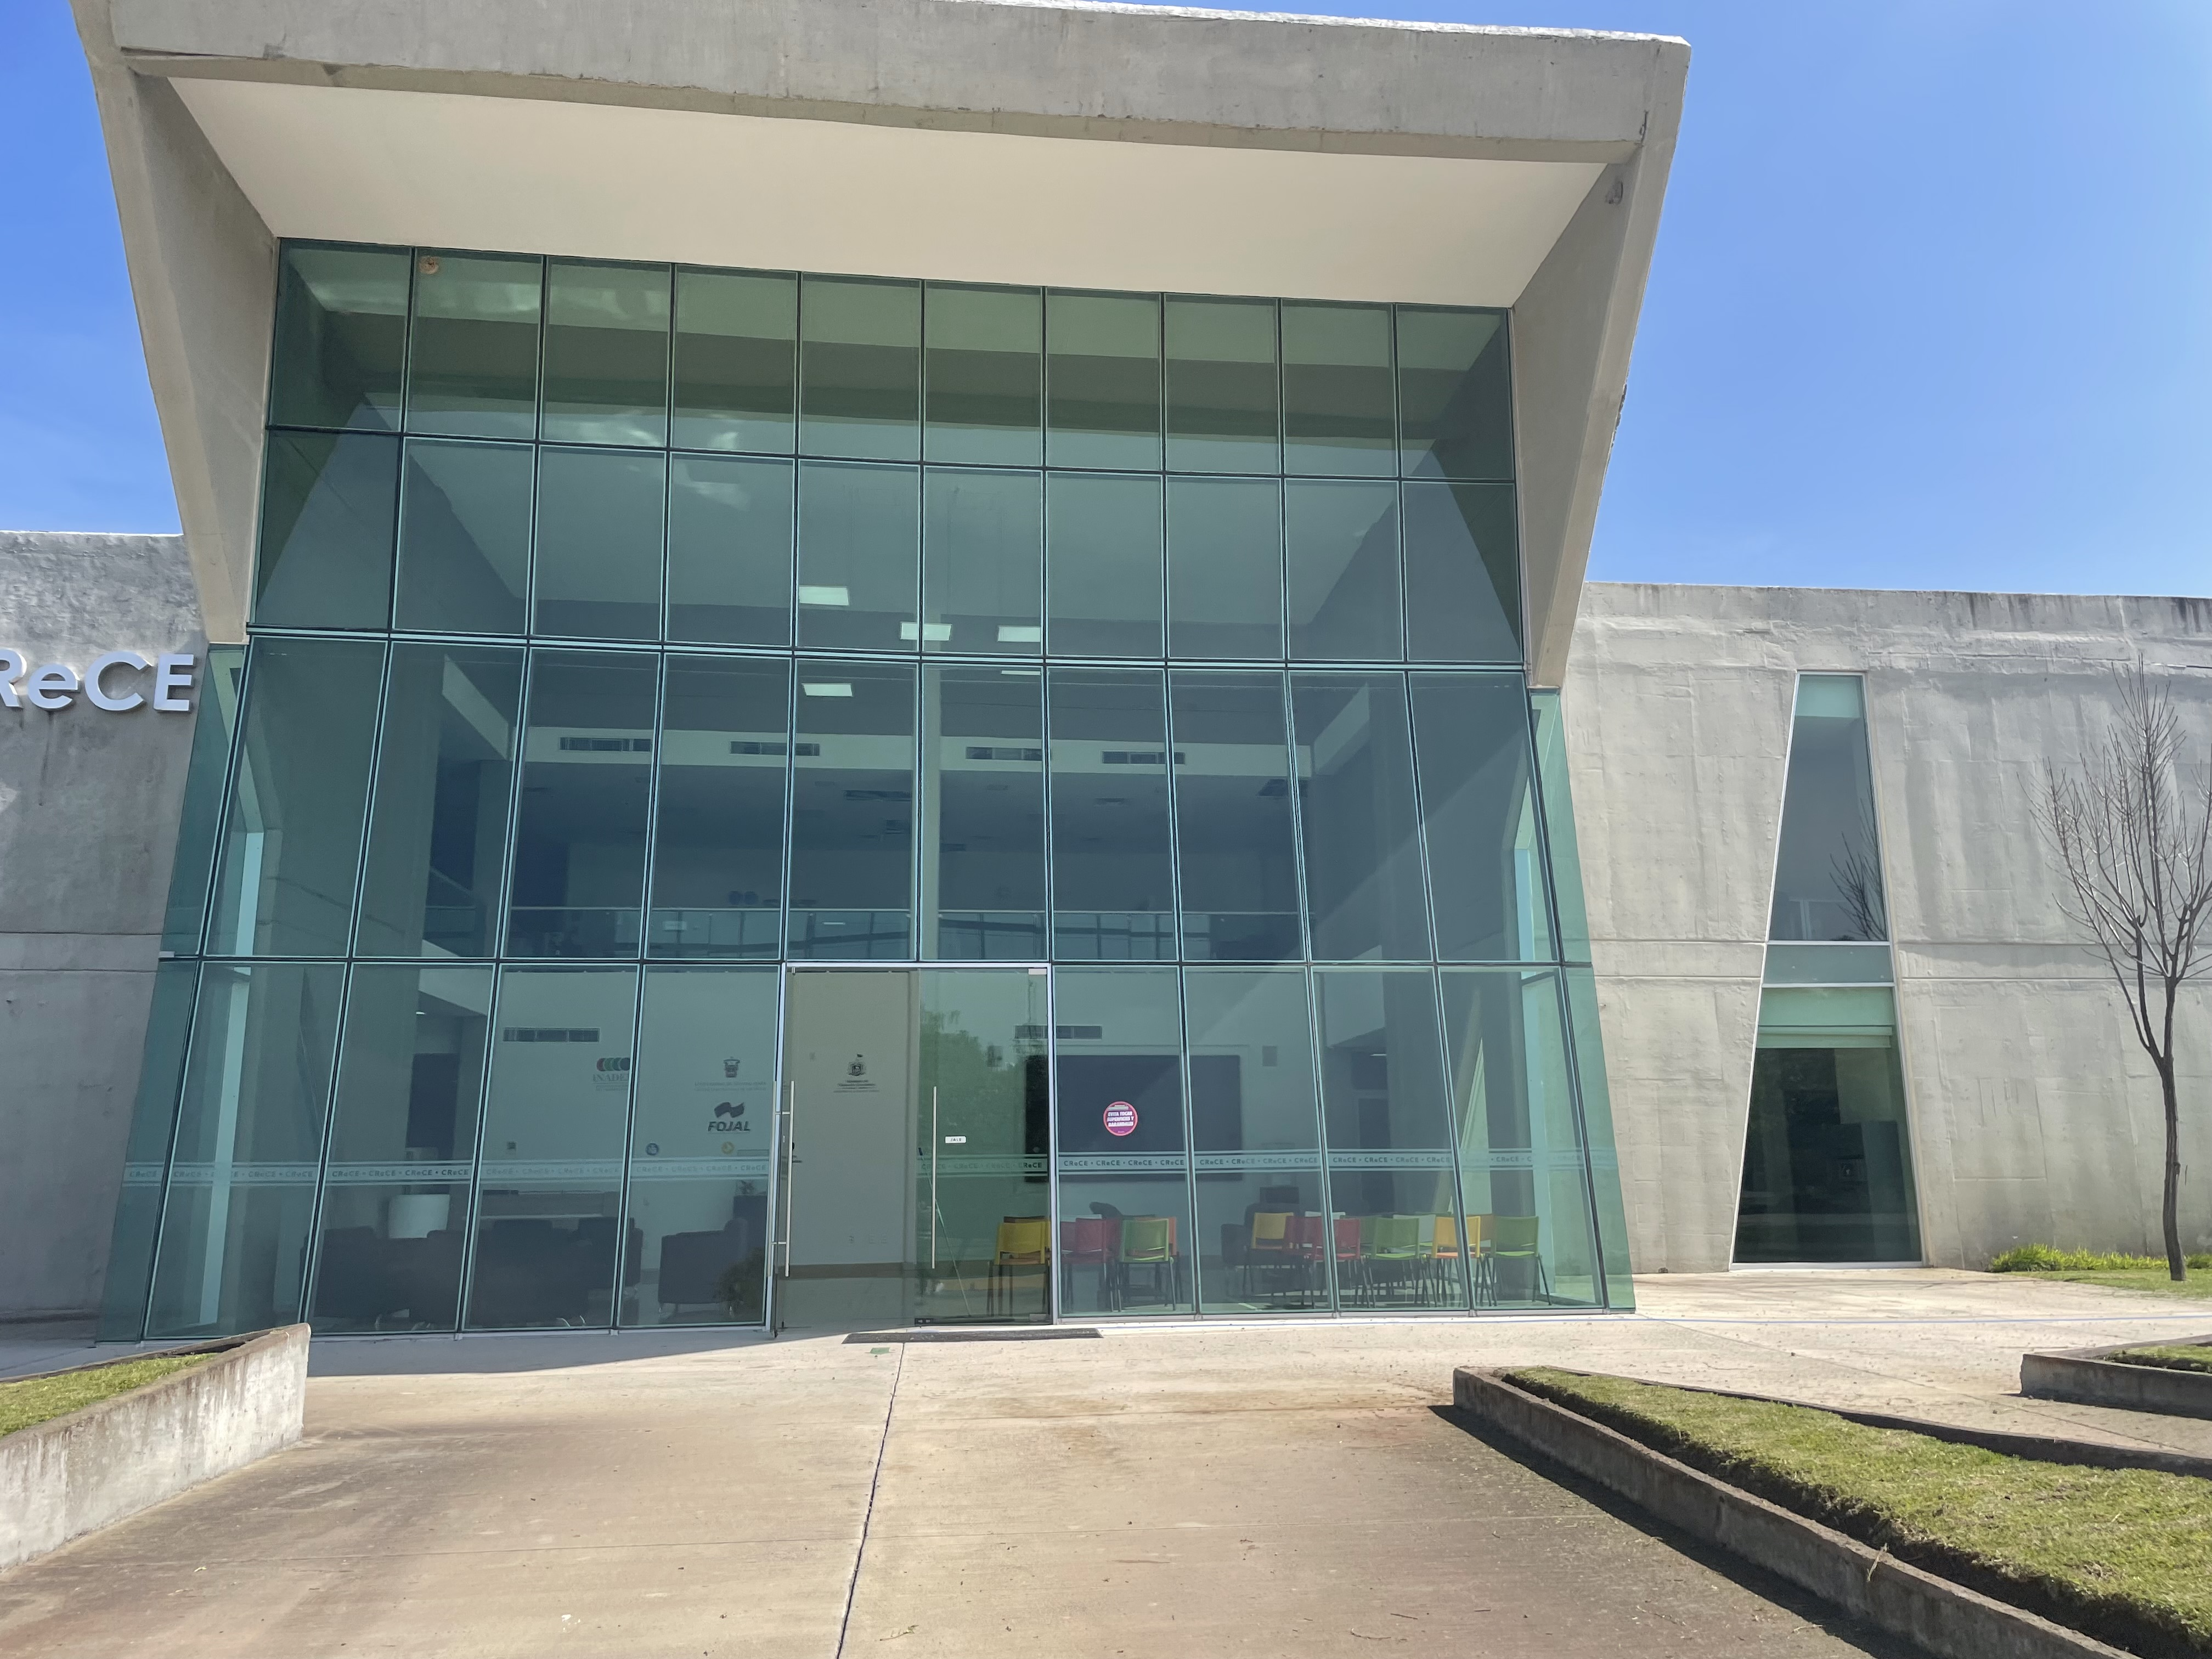crece: (21, 0, 2163, 1432)
